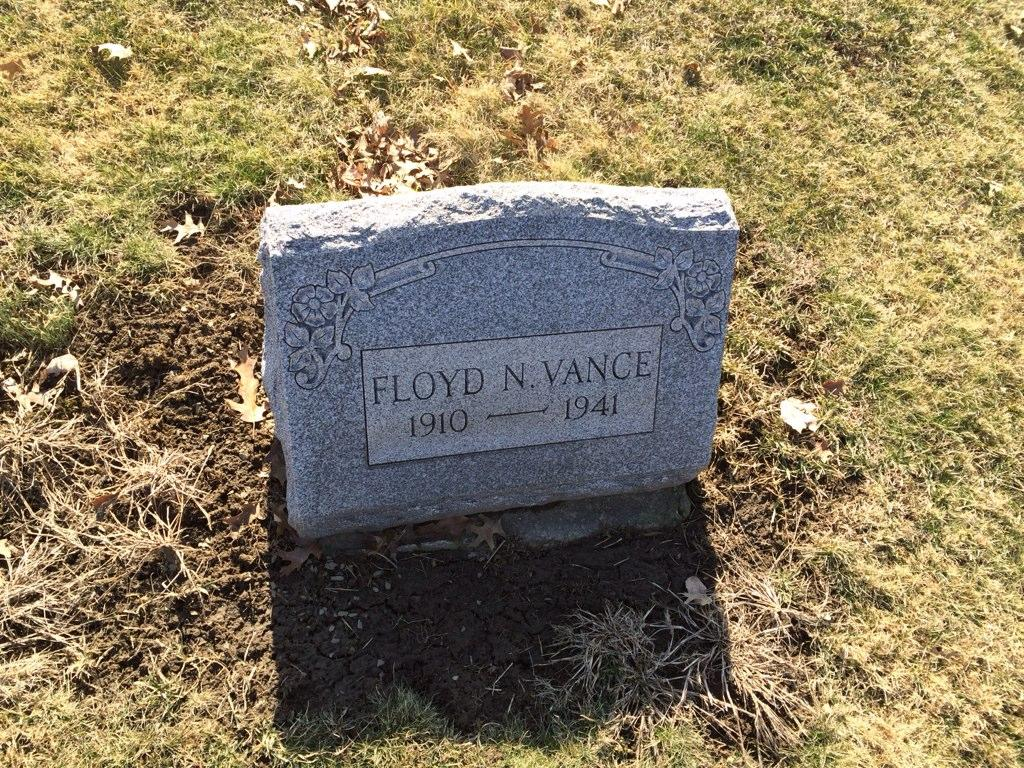slant: (256, 186, 737, 538)
